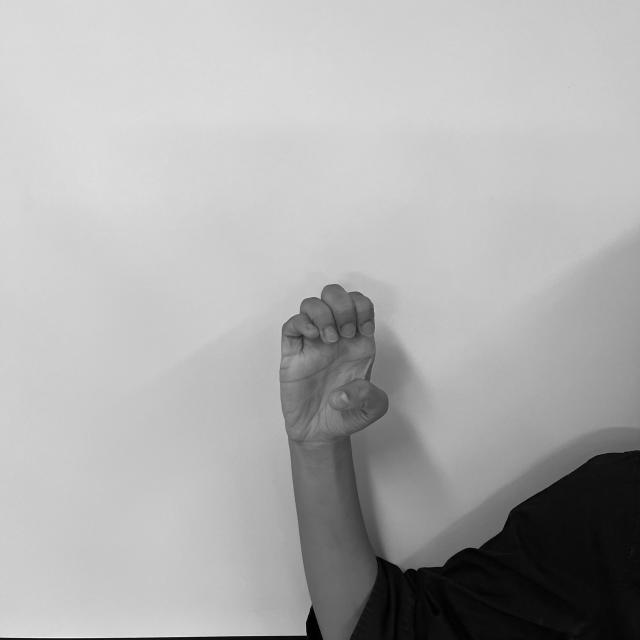Letra E: (276, 282, 394, 446)
